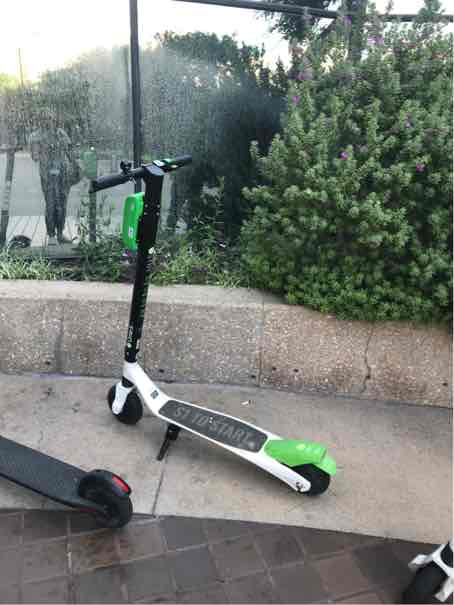scooter: (78, 144, 345, 507)
